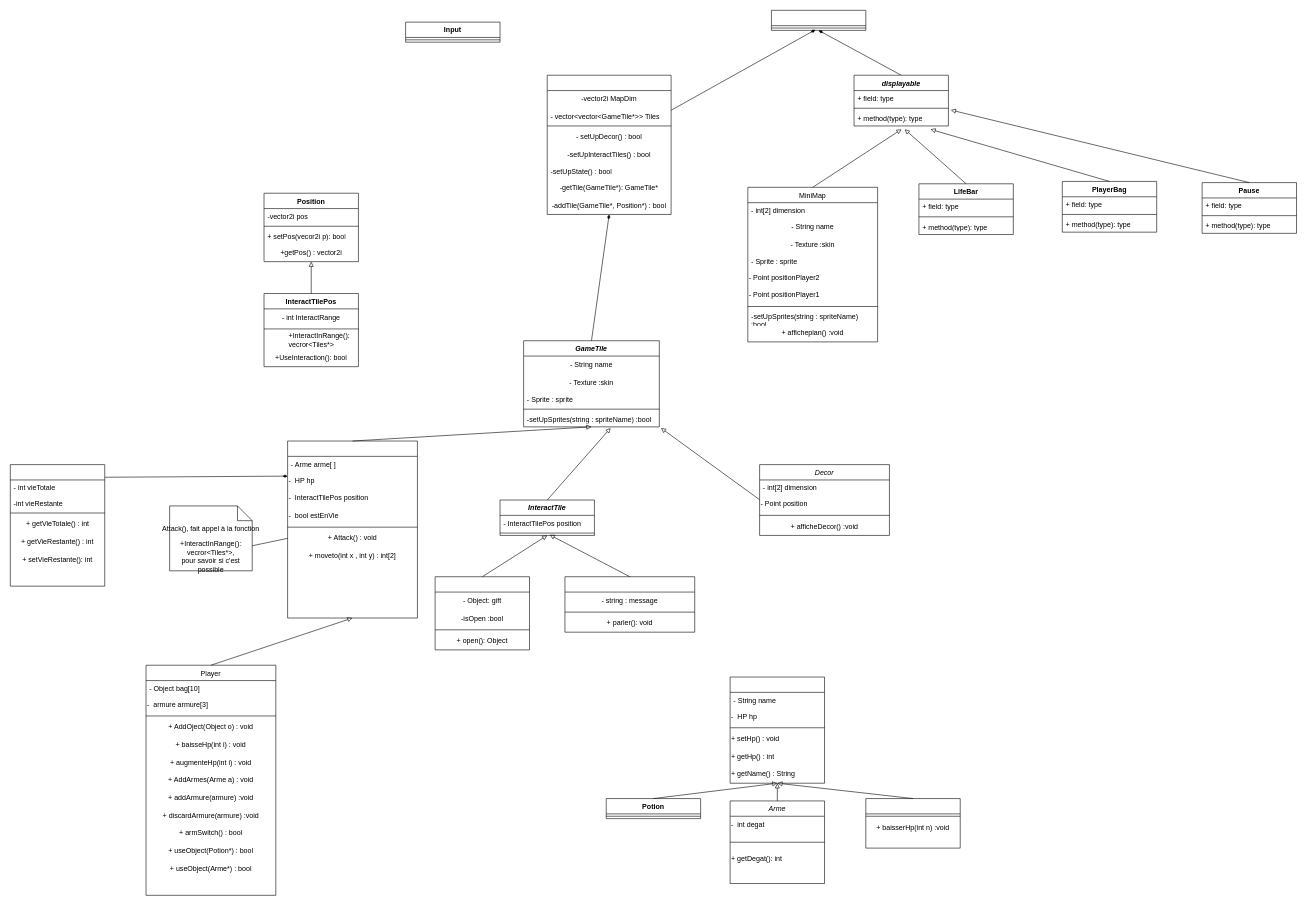
This 1307x906 diagram has some shape labels left out. The box of each missing label's shape, as (x1, y1, x2, y2) in pixels:
Armure: (865, 798, 960, 848)
chest: (435, 576, 530, 650)
GameWorld: (547, 75, 671, 214)
GraphiqueInterface: (771, 10, 866, 30)
HP: (10, 464, 105, 586)
Object: (730, 676, 825, 783)
Personnage: (287, 440, 417, 618)
Png: (564, 576, 695, 632)
